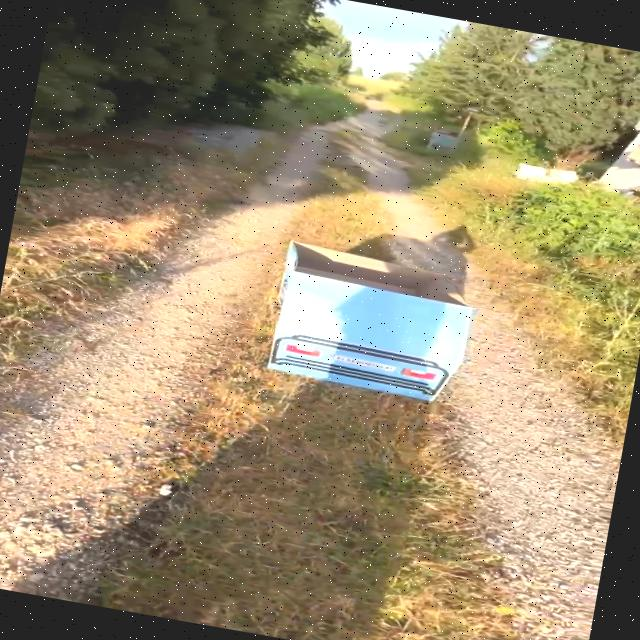blue_car: (208, 211, 506, 431)
